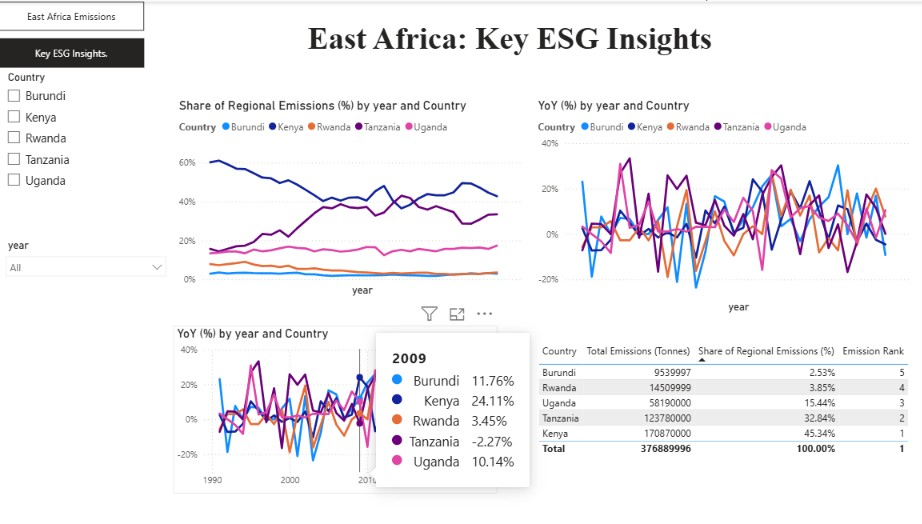

The dashboard page shown, as its layout file describes it:
{"tool":"powerbi","page":{"name":"Key ESG Insights.","canvas":[1280,720],"ordinal":1},"visuals":[{"type":"tableEx","fields":{"Values":["co2-emissions-transport.Country","co2-emissions-transport.Total Emissions (Tonnes)","co2-emissions-transport.Share of Regional Emissions (%)","co2-emissions-transport.Emission Rank"]},"box":[735.5,463.8,544.8,175.6],"z":0},{"type":"textbox","box":[358.1,20.6,676.5,71.4],"z":1000},{"type":"slicer","fields":{"Values":["co2-emissions-transport.year"]},"box":[0,321.1,240.1,76.8],"z":2000},{"type":"lineChart","fields":{"Y":["co2-emissions-transport.YoY (%)"],"Category":["co2-emissions-transport.year"],"Series":["co2-emissions-transport.Country"]},"box":[240.1,444.6,444.6,230.5],"z":3000},{"type":"slicer","fields":{"Values":["co2-emissions-transport.Country"]},"box":[0,90.6,167.4,190.7],"z":4000},{"type":"lineChart","fields":{"Category":["co2-emissions-transport.year"],"Y":["co2-emissions-transport.Share of Regional Emissions (%)"],"Series":["co2-emissions-transport.Country"]},"box":[242.9,131.7,480.3,277.2],"z":5000},{"type":"lineChart","fields":{"Y":["co2-emissions-transport.YoY (%)"],"Category":["co2-emissions-transport.year"],"Series":["co2-emissions-transport.Country"]},"box":[735.5,131.7,522.8,300.5],"z":6000},{"type":"pageNavigator","box":[0,0,200.3,90.6],"z":7000}]}

Visuals, with their boxes on the page's 1280x720 design canvas (x1, y1, x2, y2). These are canvas units, not pixel positions in the 922x524 screenshot, which may show the page scaled, cropped or inside an application window:
tableEx - co2-emissions-transport.Country x co2-emissions-transport.Total Emissions (Tonnes): (x1=736, y1=464, x2=1280, y2=639)
textbox: (x1=358, y1=21, x2=1035, y2=92)
slicer - co2-emissions-transport.year: (x1=0, y1=321, x2=240, y2=398)
lineChart - co2-emissions-transport.YoY (%) x co2-emissions-transport.year: (x1=240, y1=445, x2=685, y2=675)
slicer - co2-emissions-transport.Country: (x1=0, y1=91, x2=167, y2=281)
lineChart - co2-emissions-transport.year x co2-emissions-transport.Share of Regional Emissions (%): (x1=243, y1=132, x2=723, y2=409)
lineChart - co2-emissions-transport.YoY (%) x co2-emissions-transport.year: (x1=736, y1=132, x2=1258, y2=432)
pageNavigator: (x1=0, y1=0, x2=200, y2=91)
